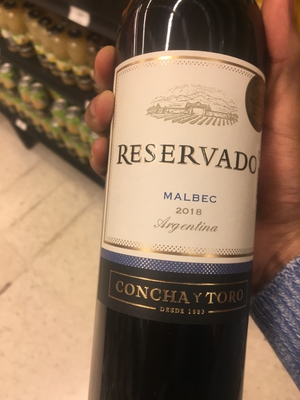reservado malbec: (88, 6, 287, 399)
